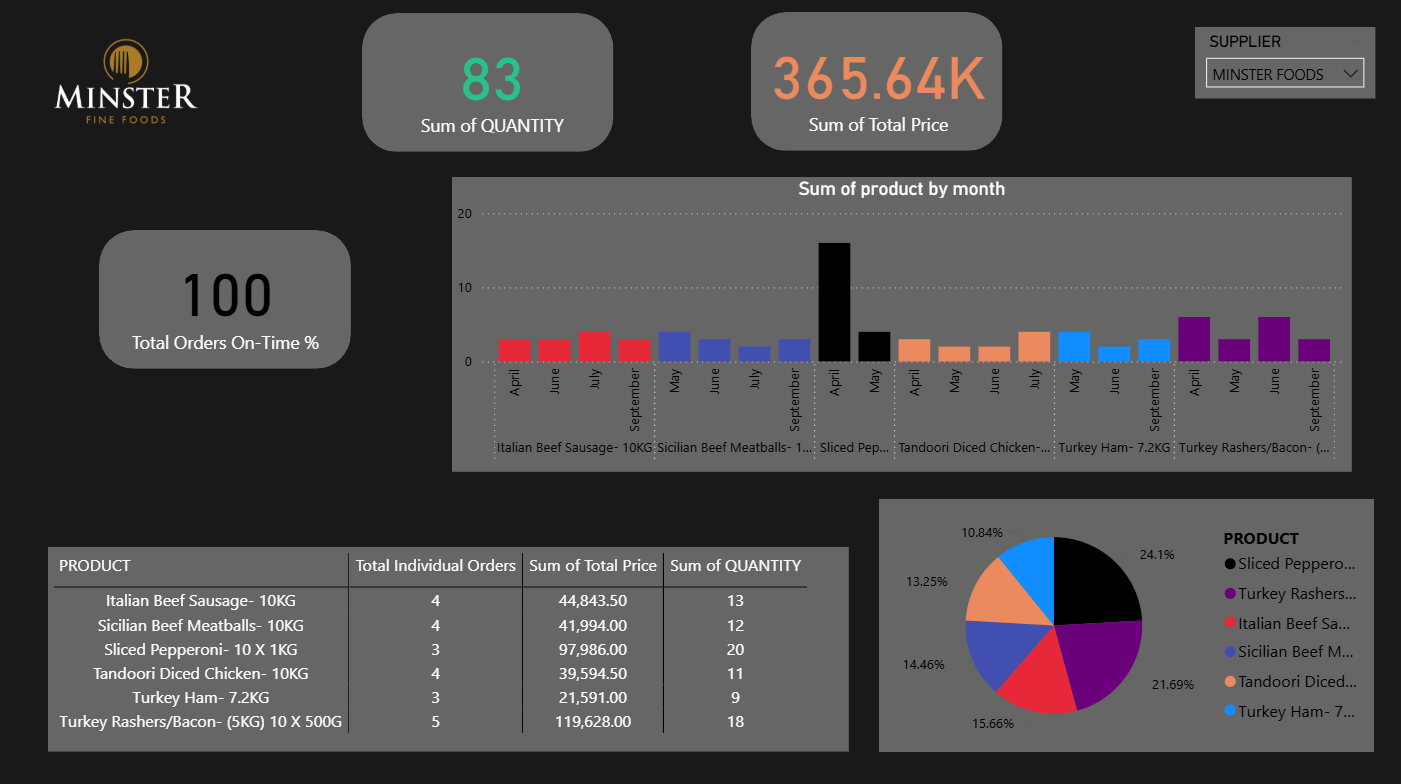

Layout of this report page (visuals, bound fields, positions):
{"tool":"powerbi","page":{"name":"MINSTER","canvas":[1280,720],"ordinal":1},"visuals":[{"type":"pivotTable","fields":{"Rows":["deliveryScheduleCSV.PRODUCT"],"Values":["MeasureTable.Total Individual Orders","Sum(deliveryScheduleCSV.Total Price)","Sum(deliveryScheduleCSV.QUANTITY)"]},"box":[15.6,495.6,710,185.6],"z":0},{"type":"shape","box":[281.1,13.3,228.6,126.4],"z":1000,"group":"g3"},{"type":"shape","box":[538.9,13.3,228.6,126.4],"z":1000,"group":"g1"},{"type":"slicer","fields":{"Values":["unique_supplier sheet.SUPPLIER"]},"box":[1088.9,27.5,164,64.7],"z":1000},{"type":"shape","box":[797.8,13.3,228.6,126.4],"z":2000,"group":"g2"},{"type":"pieChart","fields":{"Category":["unique_product sheet.PRODUCT"],"Y":["MeasureTable.Total Purchase Cost"]},"box":[737.8,468.9,528.9,238.9],"z":2000},{"type":"lineStackedColumnComboChart","title":"Sum of product by month","fields":{"Y":["Sum(deliveryScheduleCSV.QUANTITY)"],"Category":["unique_product sheet.PRODUCT","deliveryScheduleCSV.DATE RECEIVED.Variation.Date Hierarchy.Month"]},"box":[117.8,161.1,927.8,298.9],"z":3000},{"type":"image","box":[45.7,4.9,144,144],"z":4000},{"type":"group","id":"g1","title":"Group 1","box":[538.9,13.3,228.9,126.7],"z":5000},{"type":"group","id":"g2","title":"Group 2","box":[797.8,13.3,228.6,126.4],"z":6000},{"type":"group","id":"g3","title":"Group 1","box":[281.1,13.3,228.9,126.7],"z":7000},{"type":"card","fields":{"Values":["MeasureTable.Total Purchase Cost"]},"box":[809.2,19.6,210,107.8],"z":7000,"group":"g2"},{"type":"card","fields":{"Values":["MeasureTable.Total Individual Orders"]},"box":[294.9,24,200,103.3],"z":8000,"group":"g3"},{"type":"card","fields":{"Values":["Sum(deliveryScheduleCSV.QUANTITY)"]},"box":[552.7,24,200,103.3],"z":8000,"group":"g1"}]}

Visuals, with their boxes in screenshot pixels (x1, y1, x2, y2), scaled from the page's 1280x720 canvas onto the 1401x784 screenshot:
pivotTable - deliveryScheduleCSV.PRODUCT x MeasureTable.Total Individual Orders: box(17, 540, 794, 742)
shape: box(308, 14, 558, 152)
shape: box(590, 14, 840, 152)
slicer - unique_supplier sheet.SUPPLIER: box(1192, 30, 1371, 100)
shape: box(873, 14, 1123, 152)
pieChart - unique_product sheet.PRODUCT x MeasureTable.Total Purchase Cost: box(808, 511, 1386, 771)
"Sum of product by month" lineStackedColumnComboChart: box(129, 175, 1144, 501)
image: box(50, 5, 208, 162)
"Group 1" group: box(590, 14, 840, 152)
"Group 2" group: box(873, 14, 1123, 152)
"Group 1" group: box(308, 14, 558, 152)
card - MeasureTable.Total Purchase Cost: box(886, 21, 1116, 139)
card - MeasureTable.Total Individual Orders: box(323, 26, 542, 139)
card - Sum(deliveryScheduleCSV.QUANTITY): box(605, 26, 824, 139)
